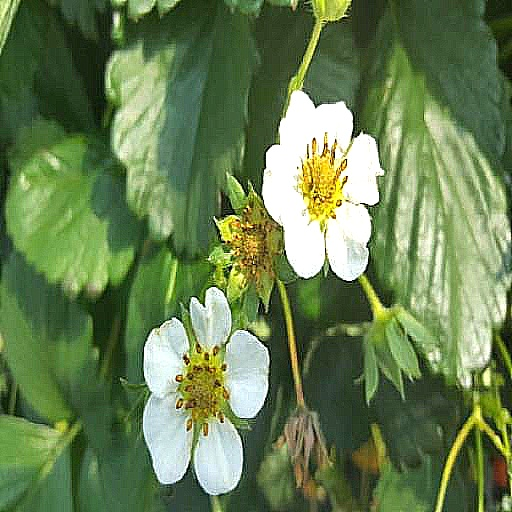Blossom Blight: (171, 340, 233, 440), (296, 129, 353, 232), (228, 201, 279, 281)
